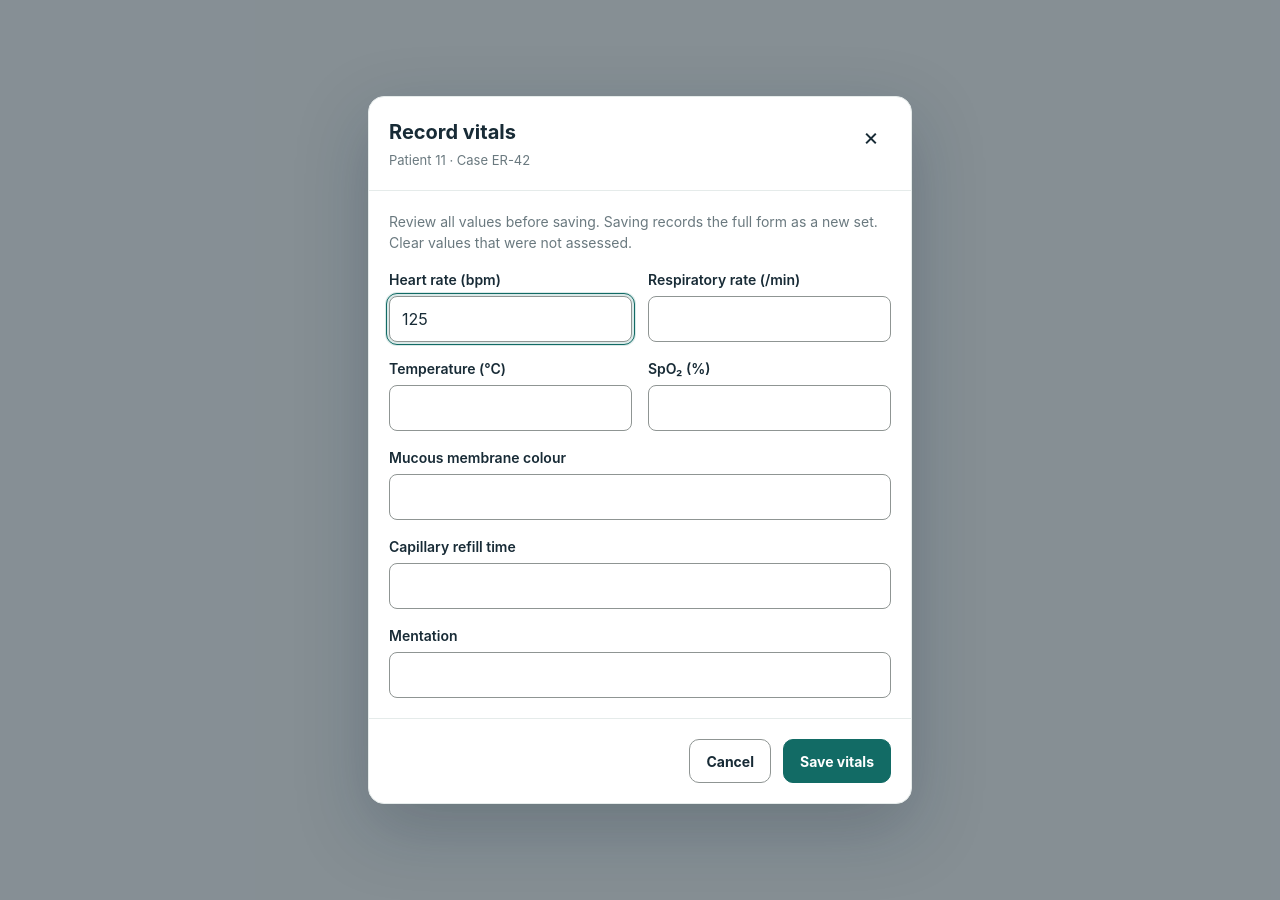
RecordVitalsDialog › focuses a server-invalid field after pending inputs are re-enabled
What coordinates should you click on to do the following:
click the button "Save vitals"
I would click on:
 (837, 761)
Its box is [783,739,891,783].
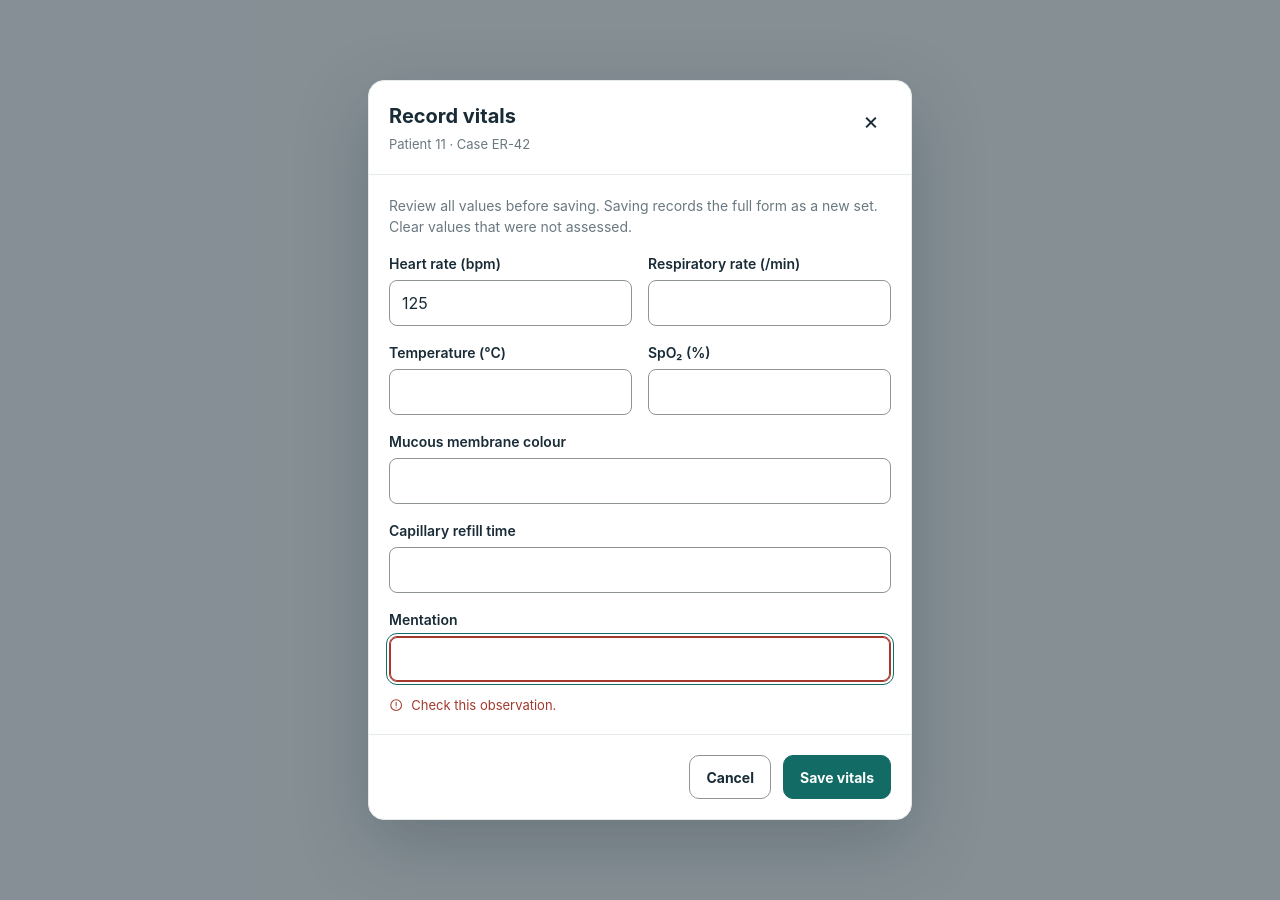
Expected: the field labelled "Mentation" is enabled, [389,636,891,682]
Expected: the text "Check this observation." is shown, [389,697,556,713]
